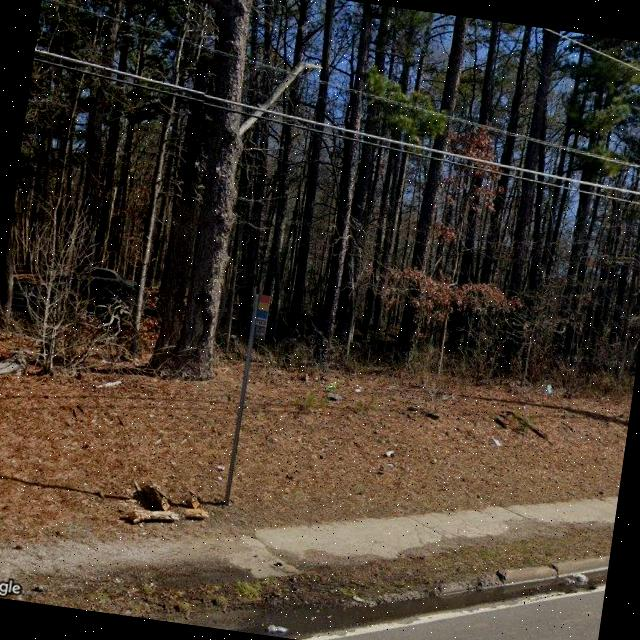trash_can: (263, 624, 289, 638)
